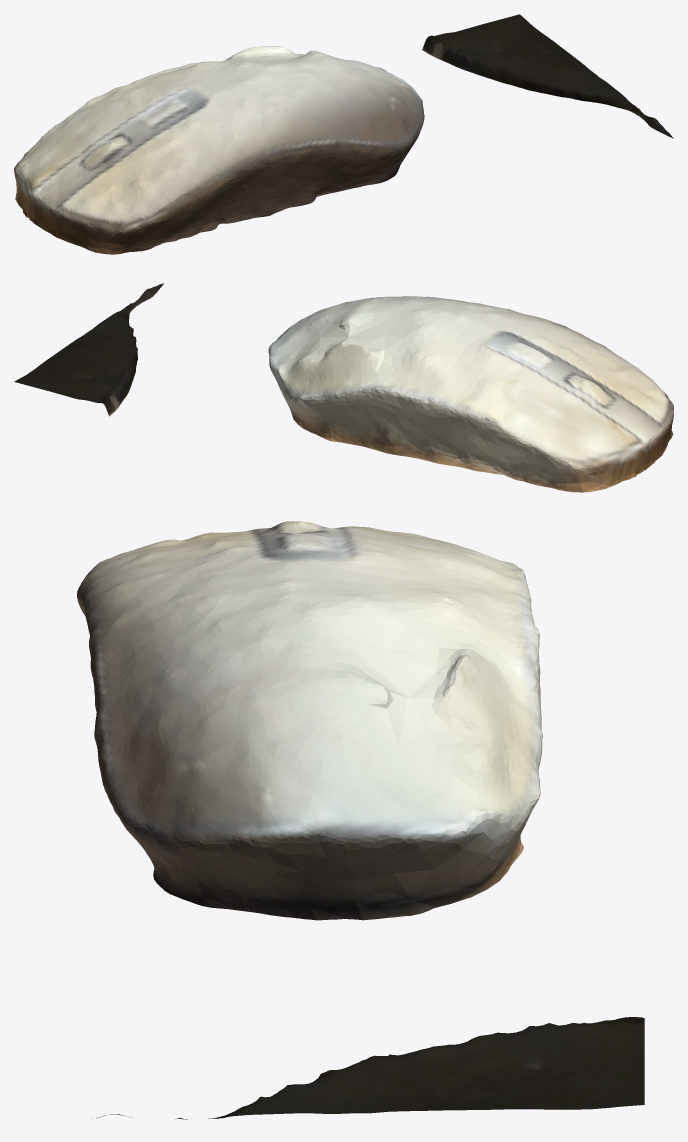
Rendered from modelo.glb.
3 views of the same model, one above another, from view 1: azimuth 30°, elevation 25°; view 2: azimuth 150°, elevation 25°; view 3: azimuth 270°, elevation 25° (orthographic). The views are drawn at different scales.
Parts seen in each view (by area): view 1: mesh; view 2: mesh; view 3: mesh.
Part boxes in pixels (x1,y1,x2,y2): mesh: [14, 14, 673, 254]; mesh: [14, 283, 673, 492]; mesh: [77, 521, 644, 1119].
Size of the model in its own units: 0.1755 by 0.0305 by 0.0825.
Materials: 1 (1 with a texture image).
